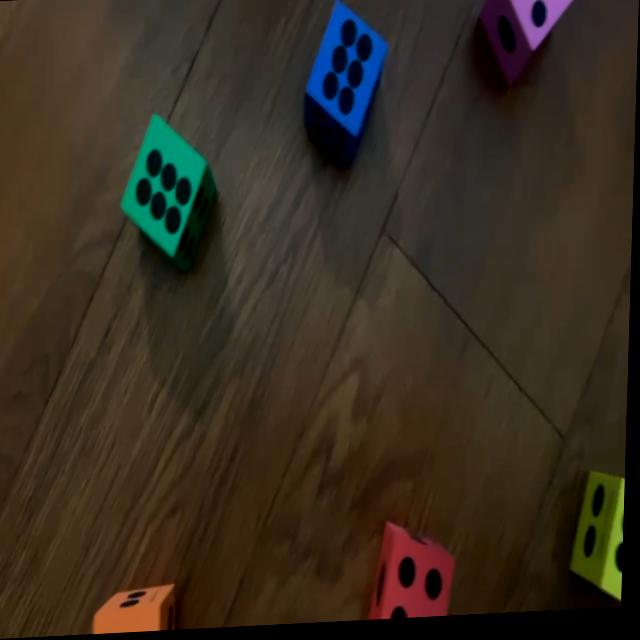cube: (121, 112, 219, 265), (302, 2, 392, 164), (372, 522, 460, 624)
